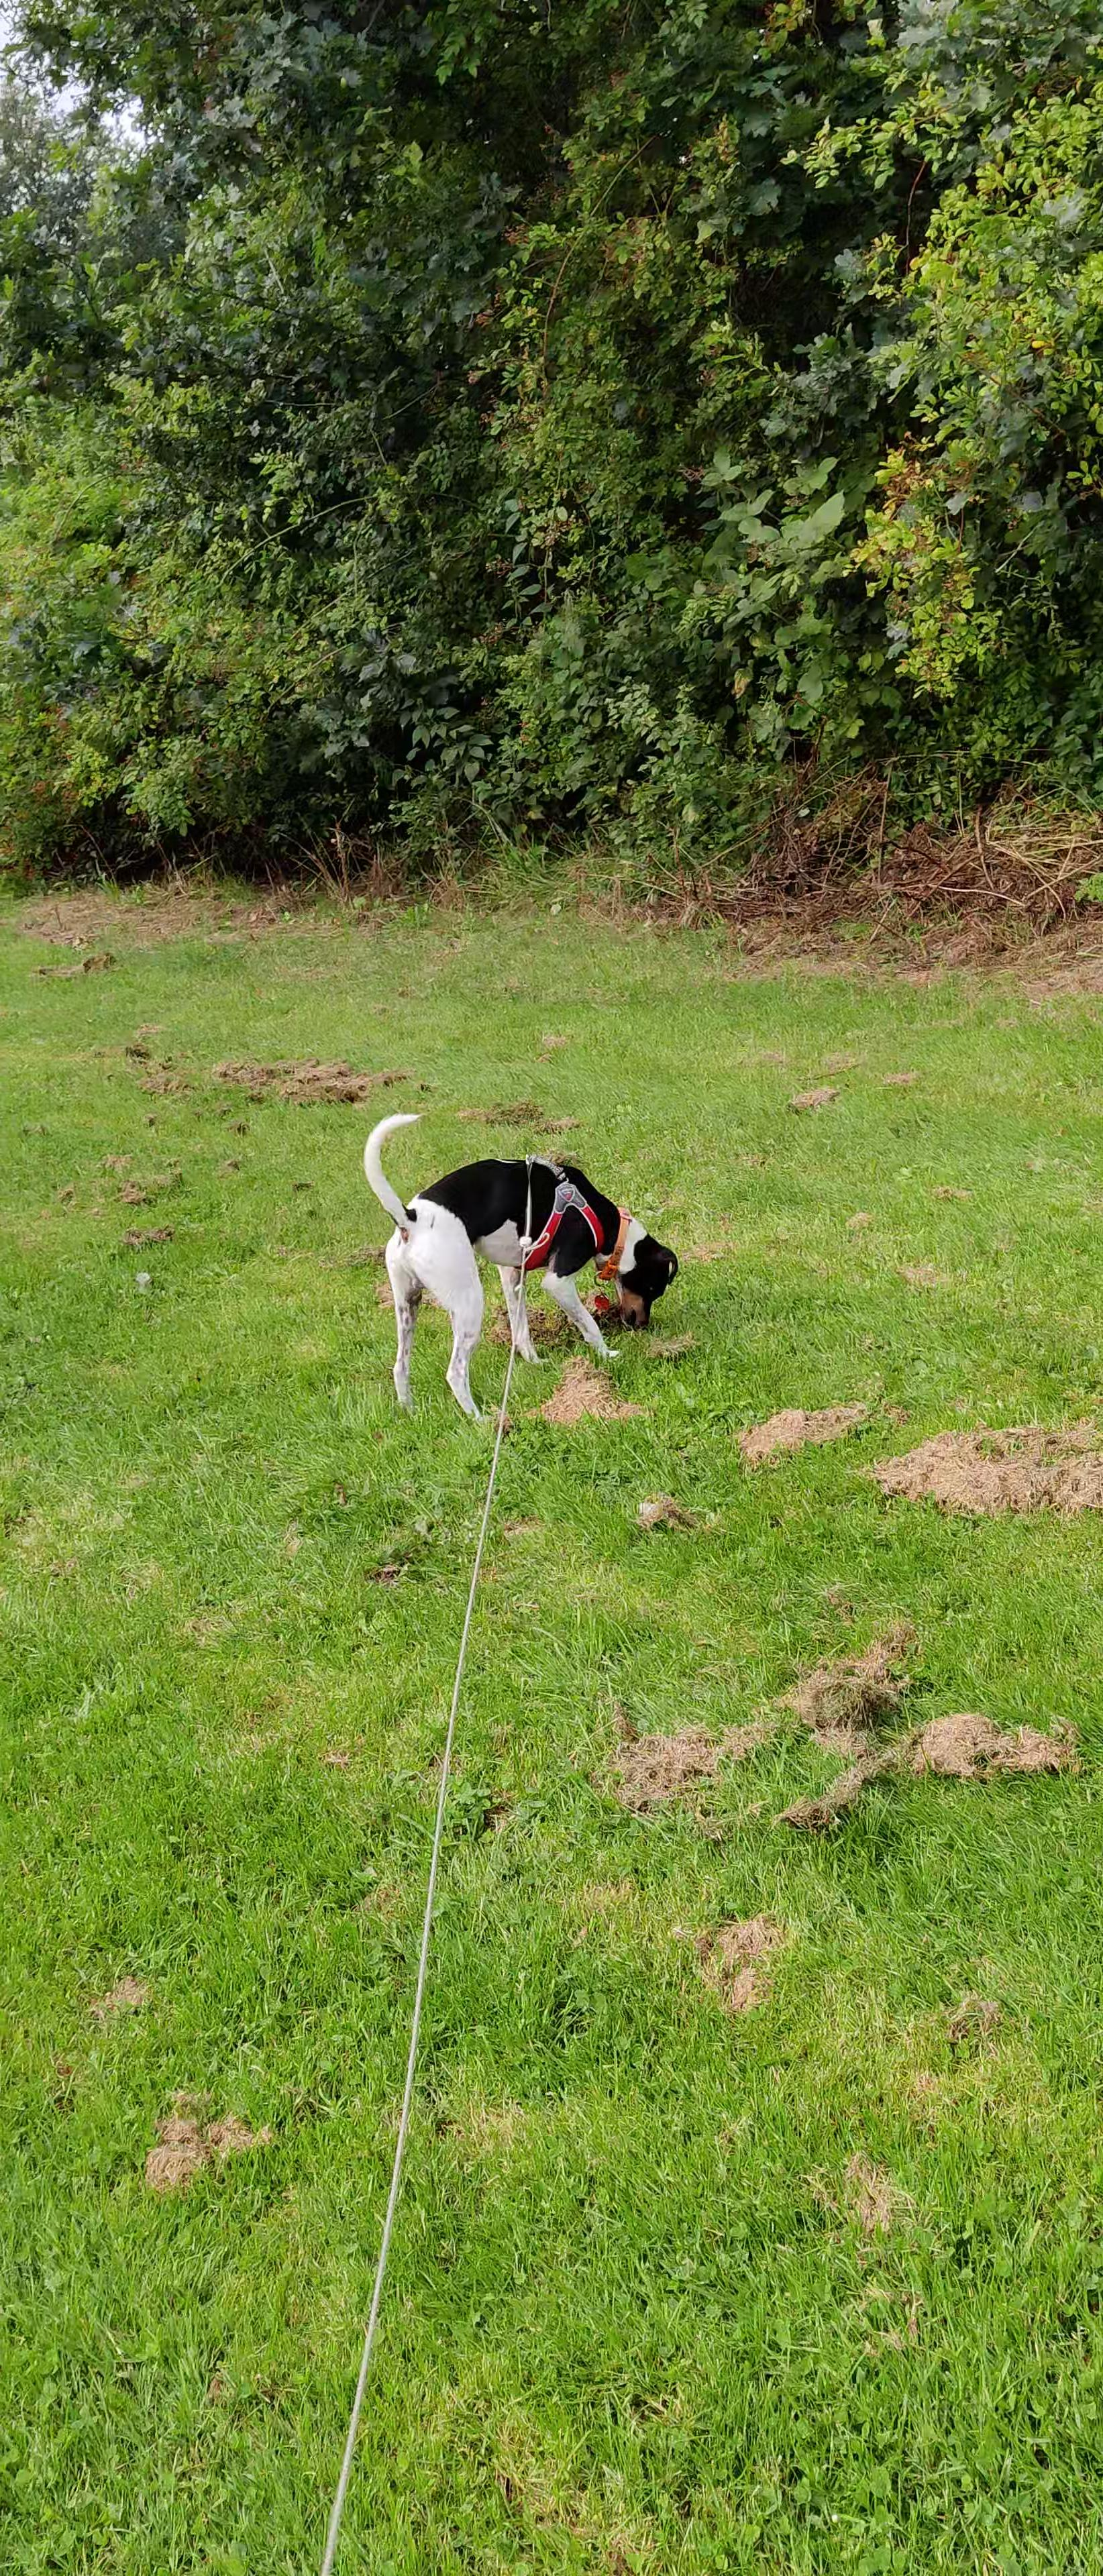Dog: (358, 1109, 682, 1428)
